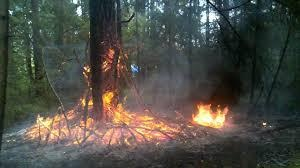fire: (24, 63, 231, 147), (191, 101, 230, 128)
